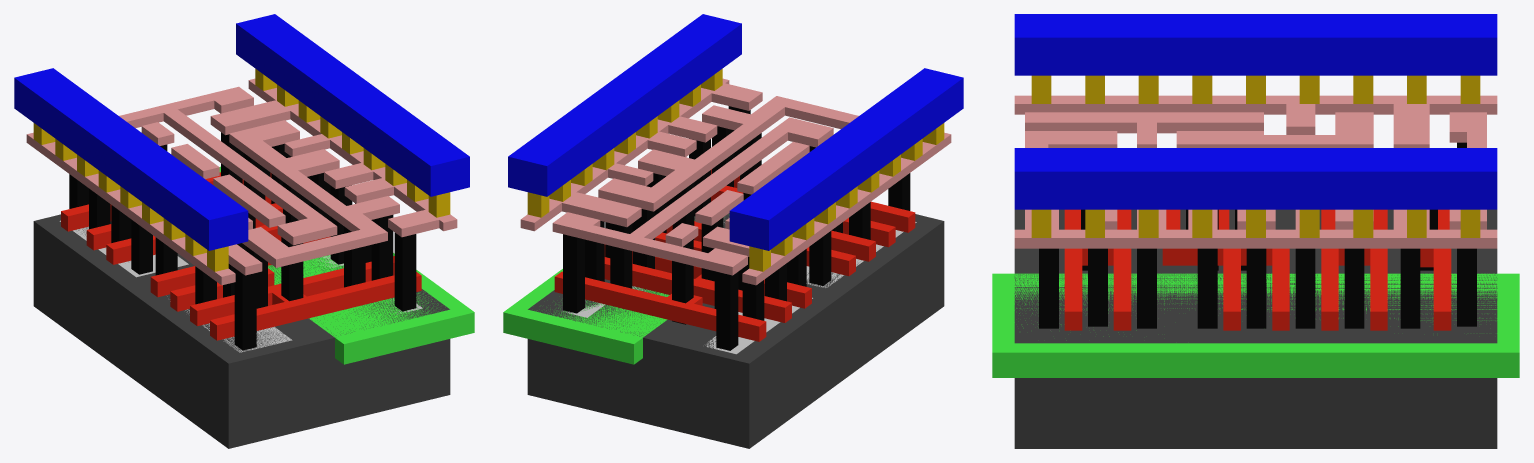
The model's file is sky130_fd_sc_hd__nand3b_2.obj.
3 renders of one model, left to right at view 1: azimuth 30°, elevation 25°; view 2: azimuth 150°, elevation 25°; view 3: azimuth 270°, elevation 25°, orthographic. The views are drawn at different scales.
Parts seen in each view (by area): view 1: subs, metal1, li, licon, poly, nwell, mcon, diff; view 2: subs, metal1, li, licon, poly, nwell, mcon, diff; view 3: metal1, subs, li, nwell, licon, poly, mcon.
Part boxes in pixels (x1,y1,x2,y2): subs: (33, 214, 450, 448); metal1: (14, 14, 469, 250); li: (26, 78, 457, 285); licon: (69, 132, 416, 350); poly: (61, 172, 421, 340); nwell: (219, 166, 474, 364); mcon: (33, 68, 450, 271); diff: (59, 220, 292, 352); subs: (527, 213, 944, 448); metal1: (508, 14, 963, 250); li: (520, 78, 951, 285); licon: (563, 106, 910, 350); poly: (554, 169, 915, 341); nwell: (503, 220, 694, 364); mcon: (527, 68, 944, 271); diff: (705, 222, 916, 354); metal1: (1014, 14, 1497, 209); subs: (1014, 209, 1497, 448); li: (1014, 95, 1497, 248); nwell: (992, 273, 1519, 377); licon: (1039, 142, 1476, 328); poly: (1064, 209, 1451, 330); mcon: (1031, 75, 1480, 237).
Bounding box in the file's own units: 3.2 × 2.74 × 4.52.
